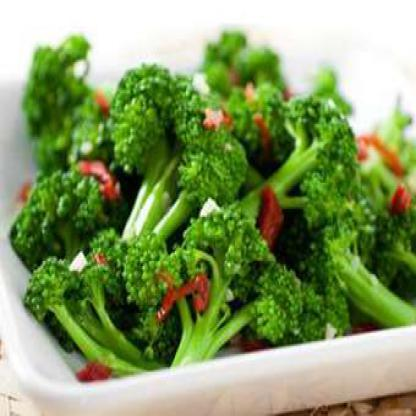broccoli: (2, 27, 415, 388)
